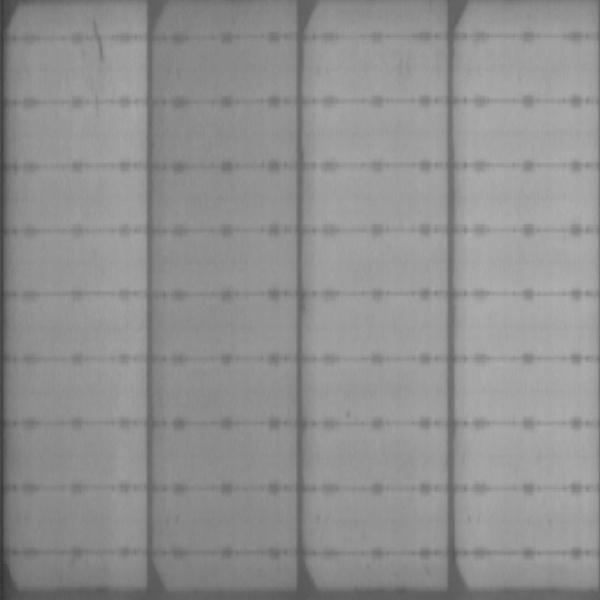scratch: (91, 18, 106, 65)
